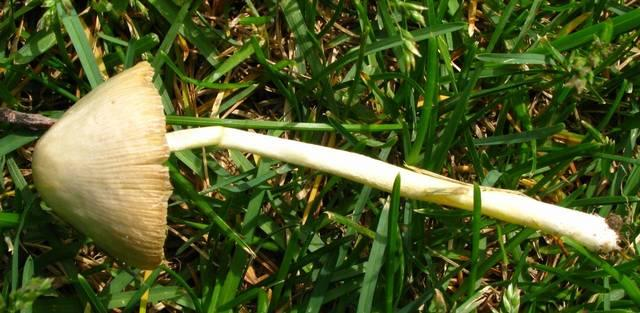edible_mushroom: (30, 59, 173, 269)
